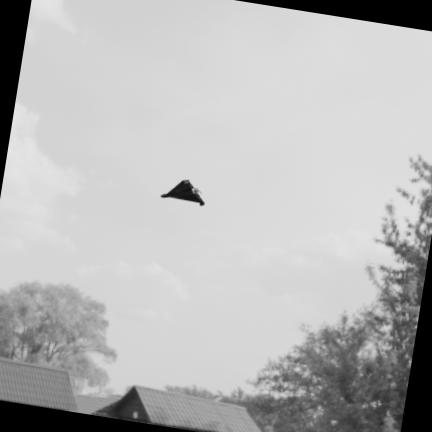Shahed: (162, 180, 203, 205)
